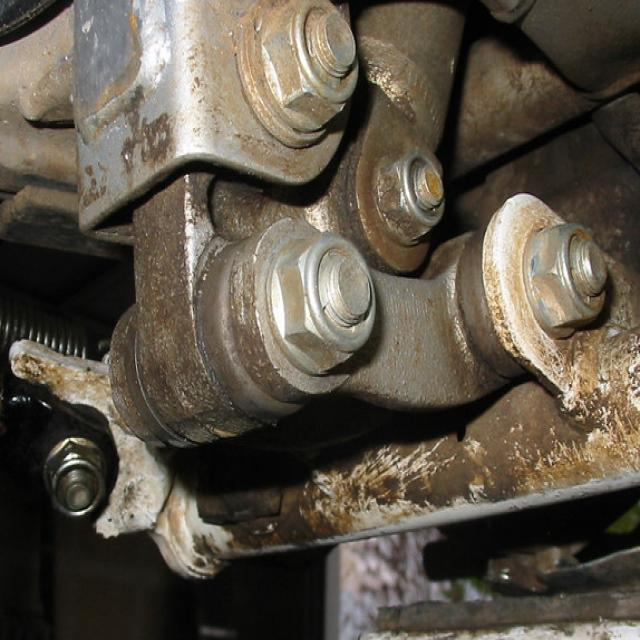bolt nut: (270, 226, 379, 374), (262, 2, 362, 132), (530, 206, 612, 337), (372, 141, 448, 239), (42, 439, 110, 526)
